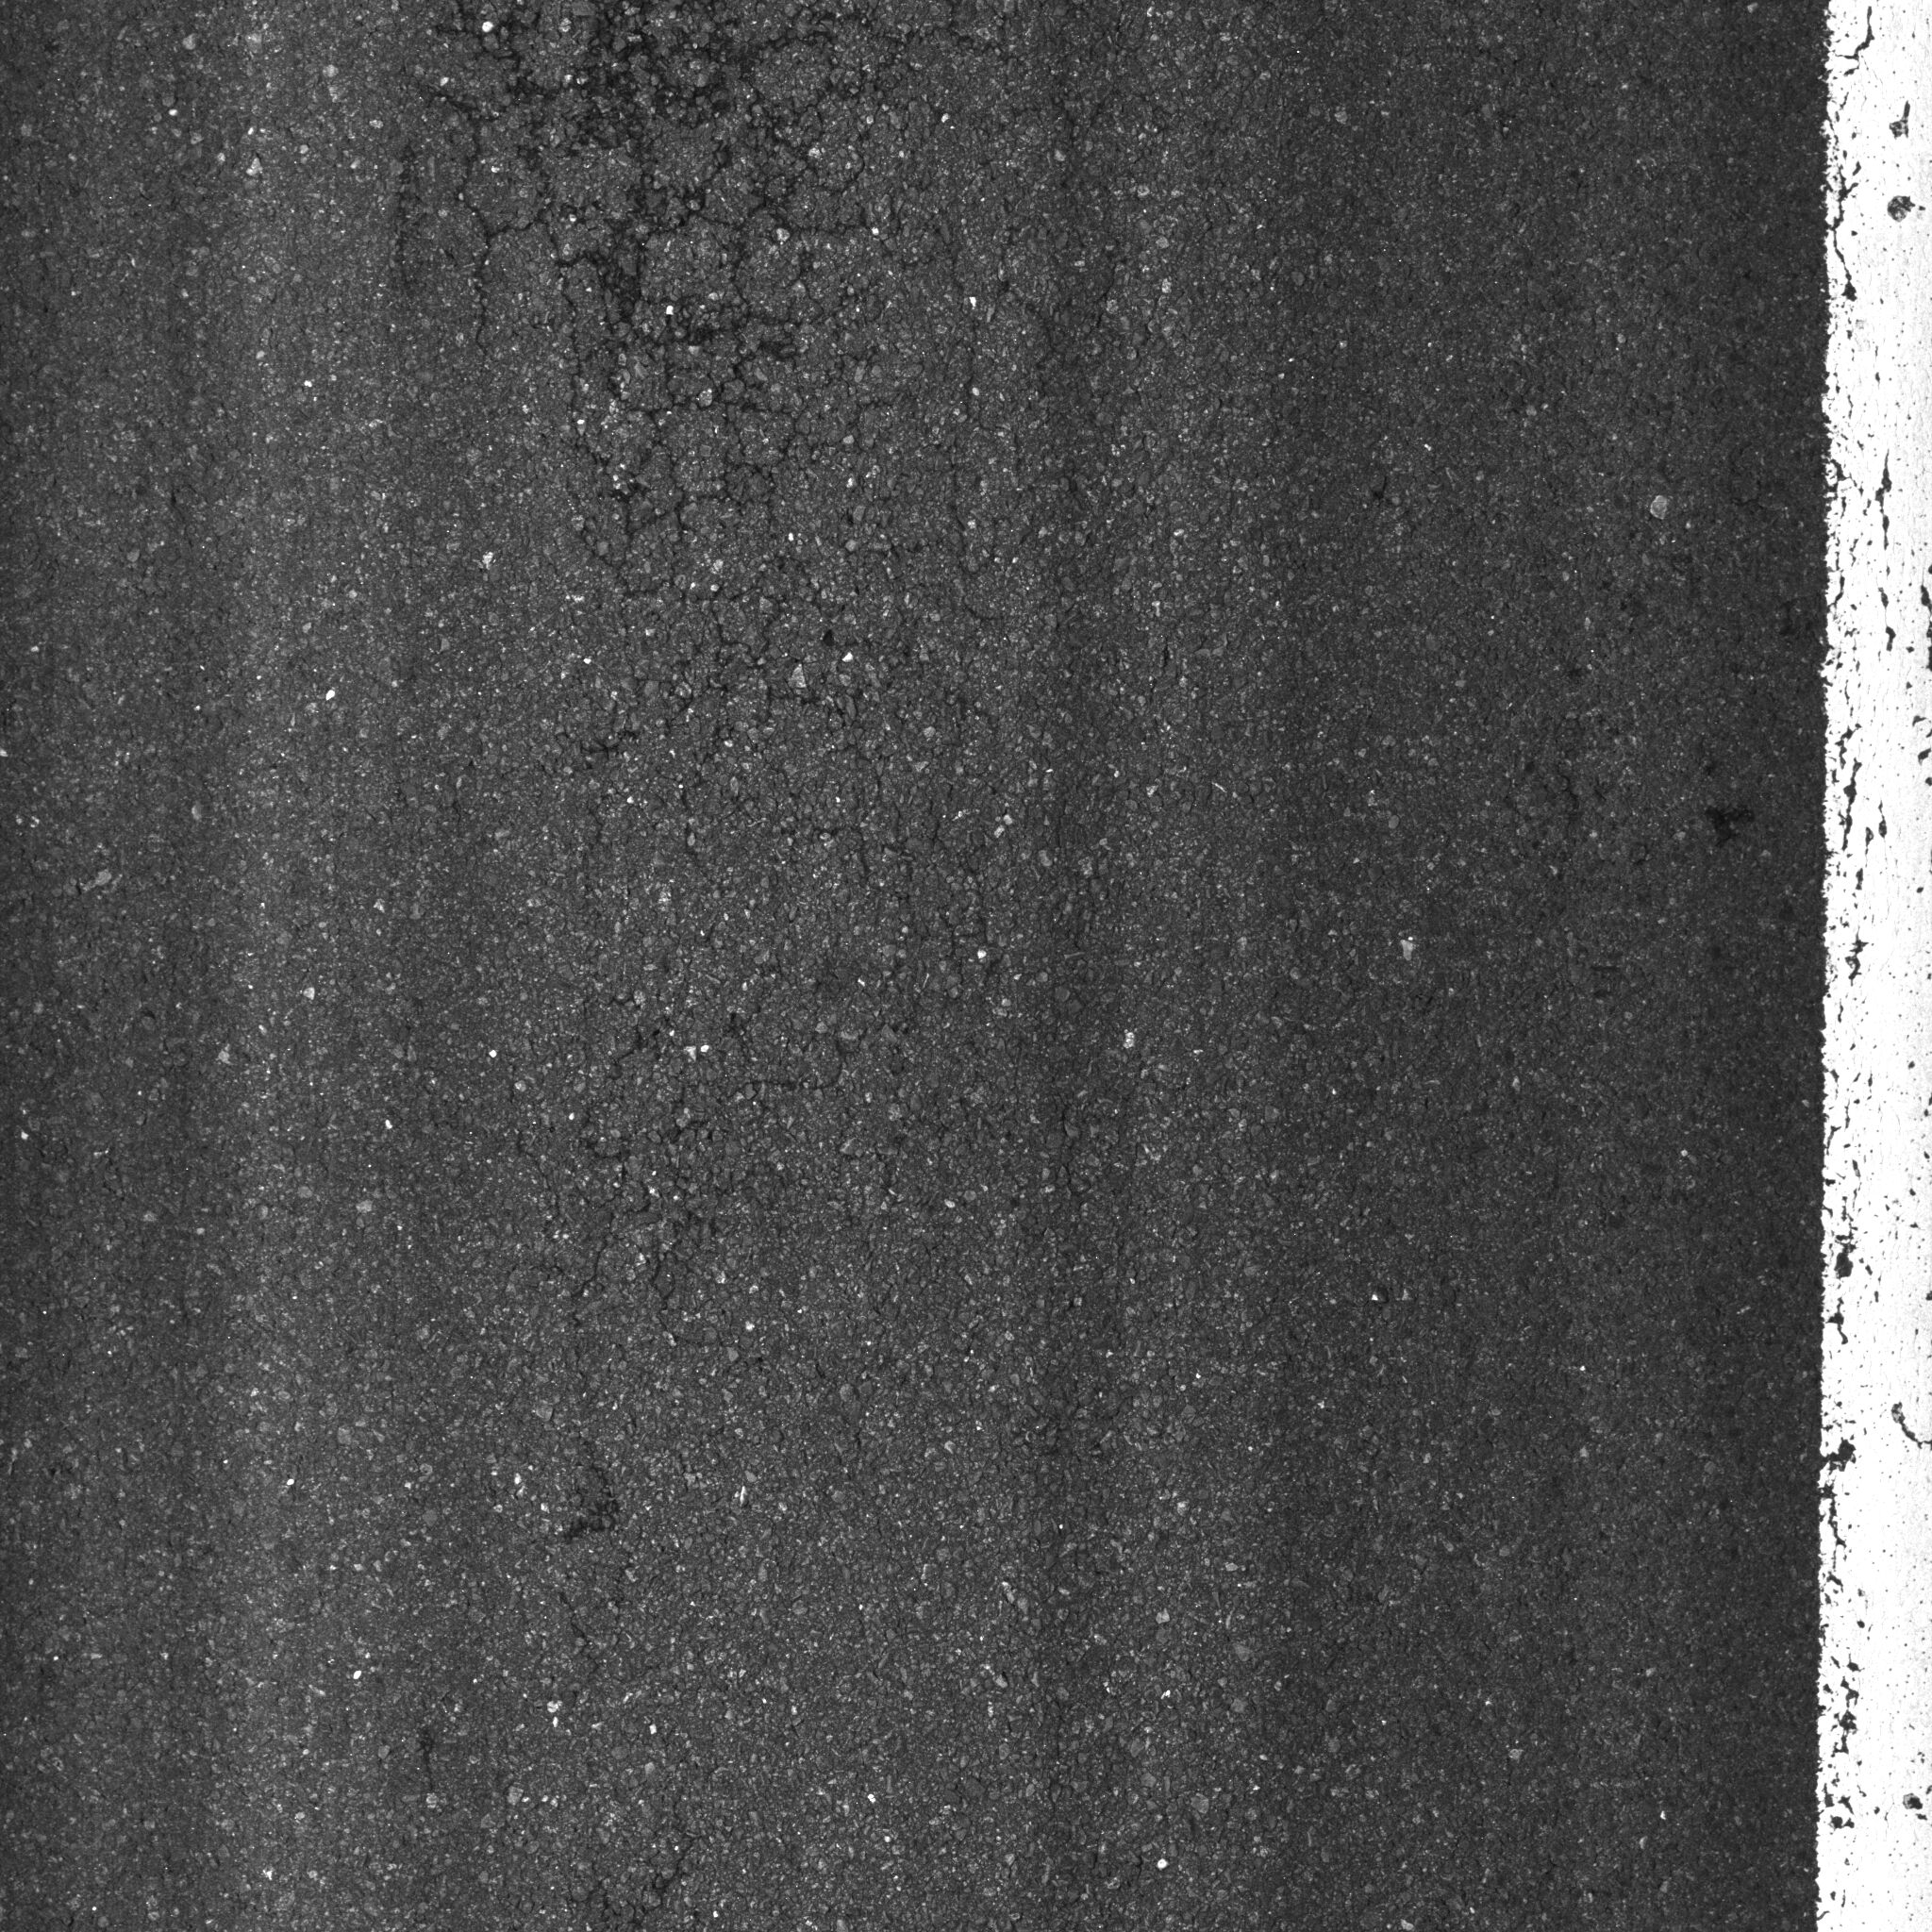alligator: (315, 5, 1143, 936)
